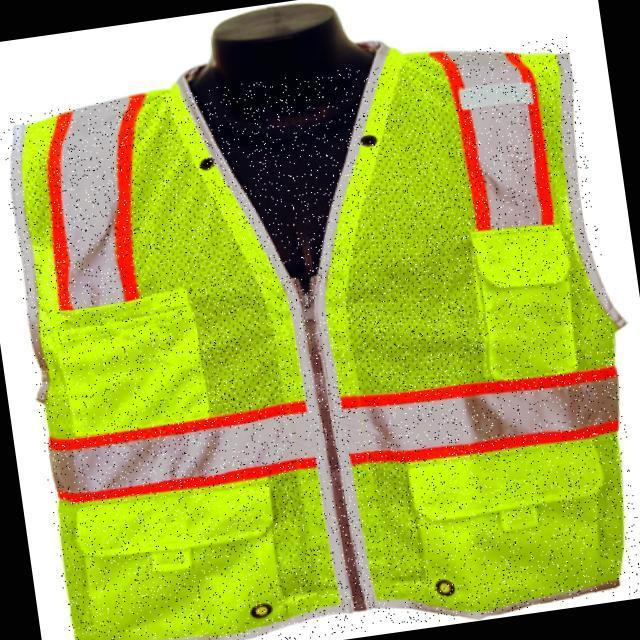vest: (0, 36, 640, 640)
